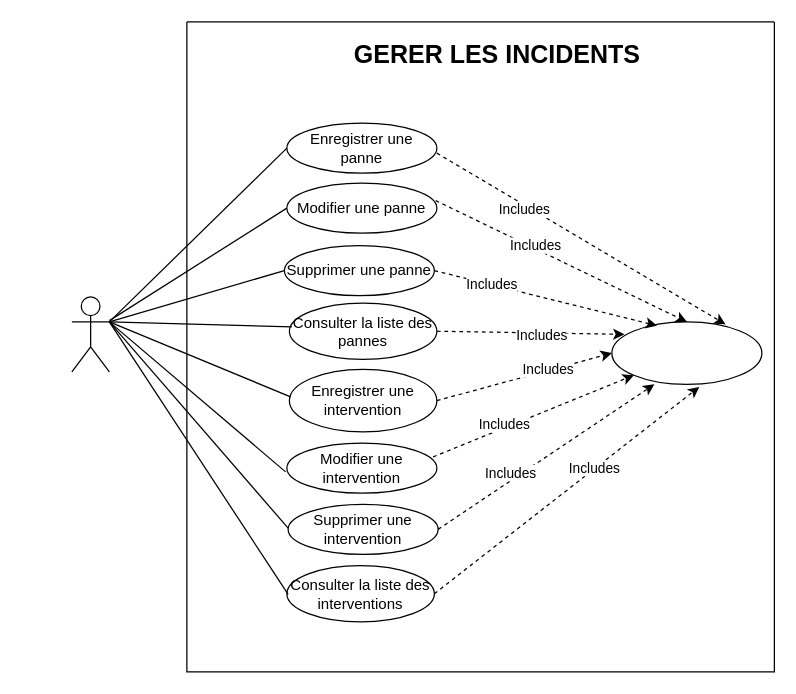
Image size: 796x694. Some labels were removed from this diagram. Here are the shapes that lost their labels. From the top down, the centre of each, then its label:
At pixel 90 334: "TECHNICIEN INFRASTRUCTURE".
At pixel 686 352: "S'authentifier".
